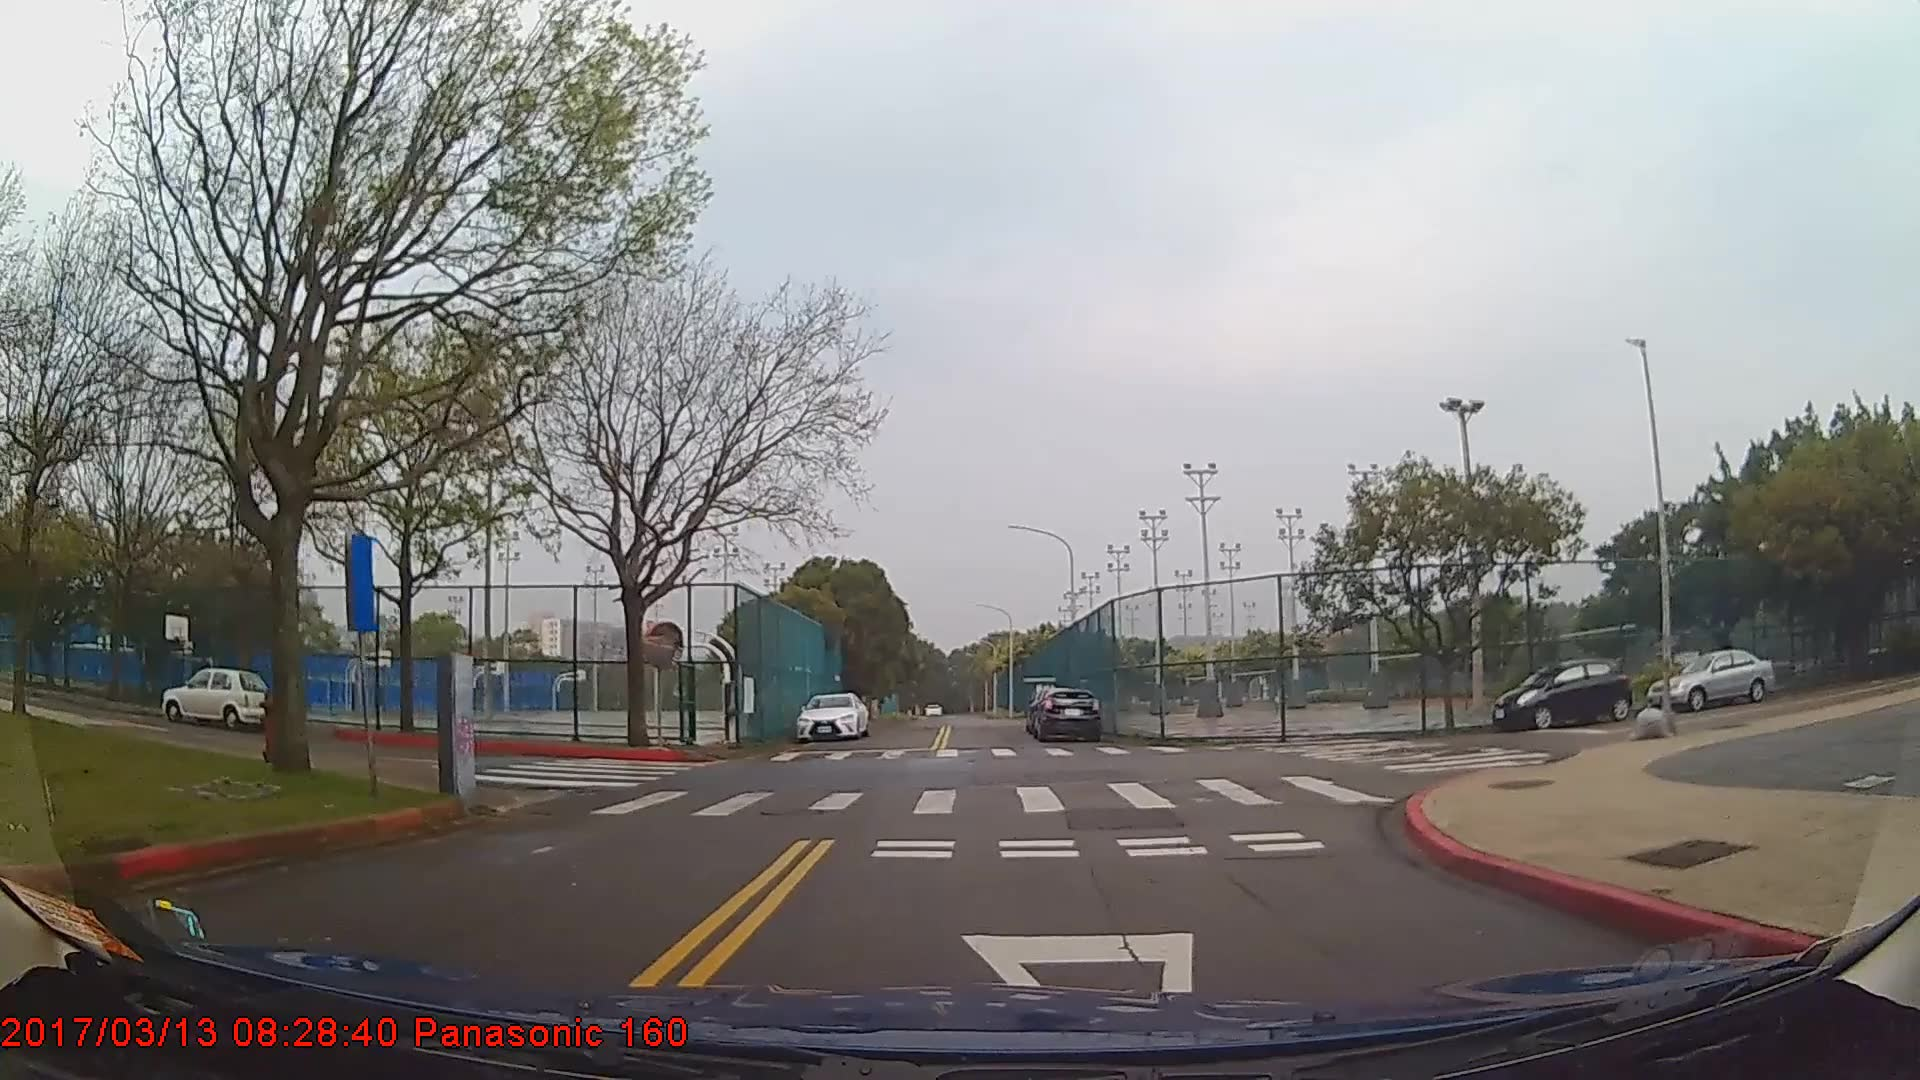vehicle: (1491, 655, 1633, 728), (1644, 645, 1776, 711), (158, 665, 272, 729), (1027, 686, 1098, 742), (794, 691, 866, 741)
